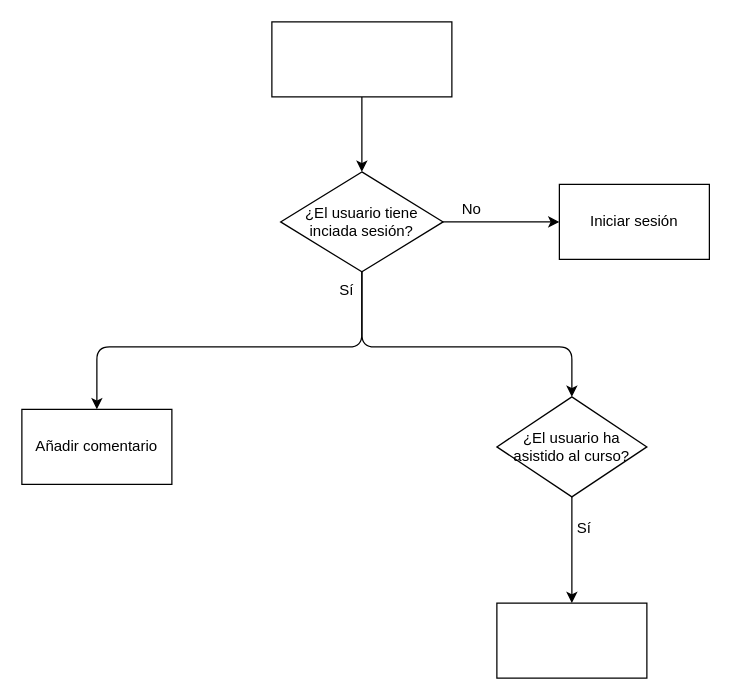
Image size: 731x700. Some labels were removed from this diagram. The shapes that lost their labels are listed below. From the top down, each one's centre as x and y in pixels, then its label:
point (361, 59): Curso
point (571, 640): Añadir valoración
